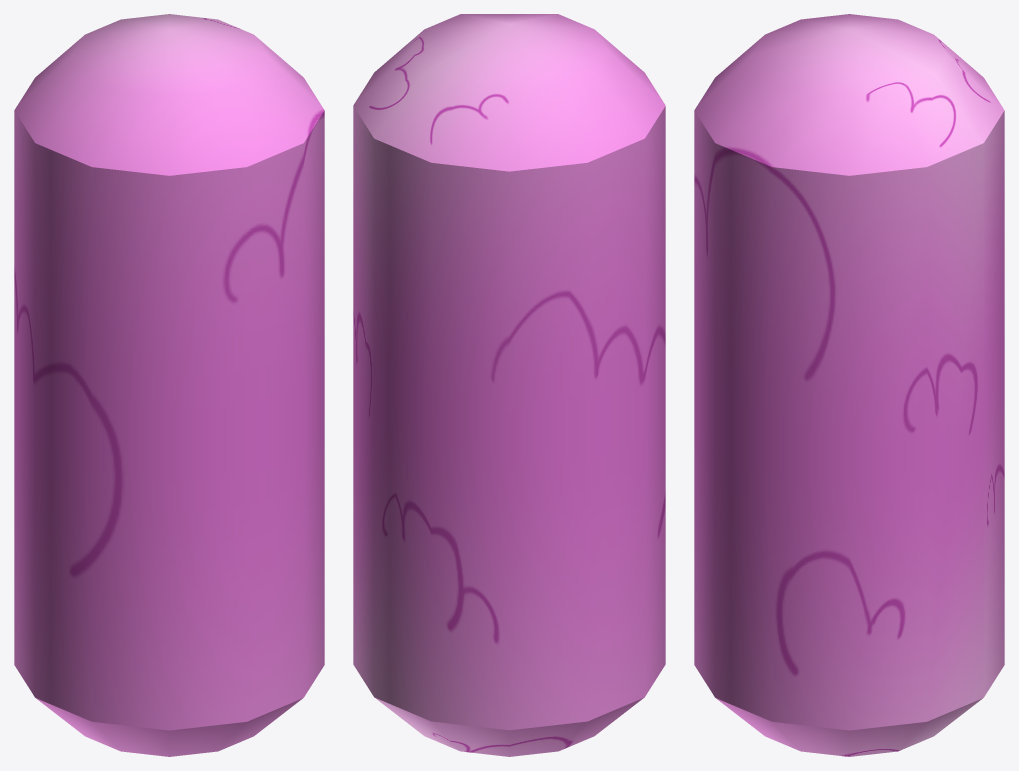
Rendered from algodon.FBX.
3 views of the same model, side by side, from view 1: azimuth 30°, elevation 25°; view 2: azimuth 150°, elevation 25°; view 3: azimuth 270°, elevation 25° (orthographic).
Visible parts, largest first — view 1: Cylinder002; view 2: Cylinder002; view 3: Cylinder002.
Part boxes in pixels (box(x1,y1,x2,y2)): Cylinder002: box(14, 14, 324, 756); Cylinder002: box(353, 14, 665, 756); Cylinder002: box(694, 14, 1004, 756).
Size of the model in its own units: 83.39 by 211 by 83.39.
1 material, 1 textured.
